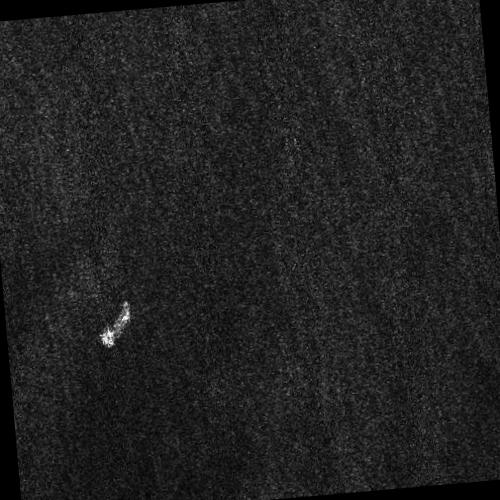ship: (100, 301, 131, 347)
